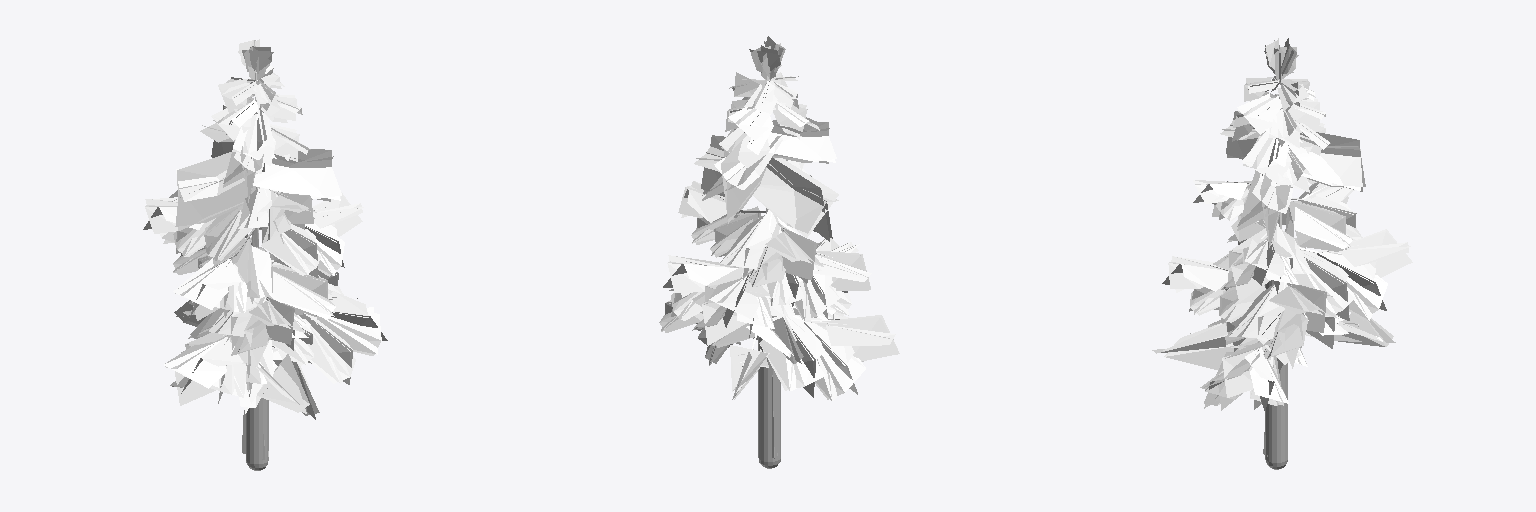
File: SM_Pine_b_04.obj
The picture shows the model from 3 angles: view 1: azimuth 30°, elevation 25°; view 2: azimuth 150°, elevation 25°; view 3: azimuth 270°, elevation 25°; orthographic projection.
Visible parts, largest first — view 1: SM_Pine_b_04, SM_Pine_b_04_LOD1, SM_Pine_b_04_LOD2, UCX_SM_Pine_b_04_LOD0; view 2: SM_Pine_b_04, SM_Pine_b_04_LOD2, SM_Pine_b_04_LOD1, UCX_SM_Pine_b_04_LOD0; view 3: SM_Pine_b_04, SM_Pine_b_04_LOD2, SM_Pine_b_04_LOD1, UCX_SM_Pine_b_04_LOD0.
Boxes of the visible parts, box(x1,y1,x2,y2) form: SM_Pine_b_04: box(145, 40, 381, 456); SM_Pine_b_04_LOD1: box(145, 39, 387, 459); SM_Pine_b_04_LOD2: box(143, 100, 384, 453); UCX_SM_Pine_b_04_LOD0: box(246, 247, 268, 470); SM_Pine_b_04: box(659, 36, 895, 399); SM_Pine_b_04_LOD2: box(661, 103, 897, 458); SM_Pine_b_04_LOD1: box(661, 41, 899, 455); UCX_SM_Pine_b_04_LOD0: box(758, 316, 780, 468); SM_Pine_b_04: box(1168, 38, 1408, 456); SM_Pine_b_04_LOD2: box(1162, 106, 1411, 454); SM_Pine_b_04_LOD1: box(1152, 38, 1412, 405); UCX_SM_Pine_b_04_LOD0: box(1265, 280, 1287, 469).
Size of the model in its own units: 805 by 1492 by 845.